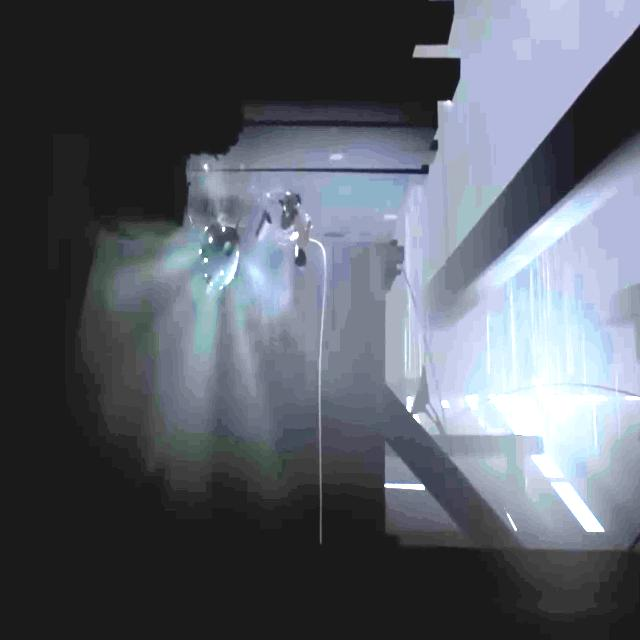boy: (264, 196, 306, 267)
